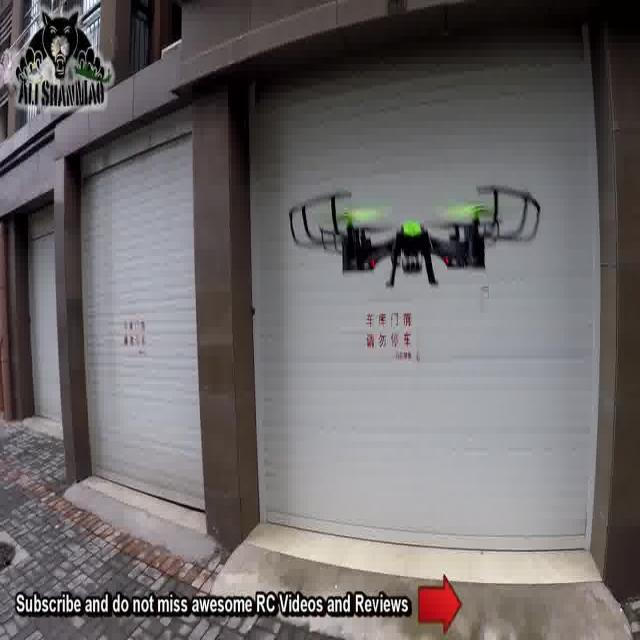drone: (283, 178, 543, 290)
